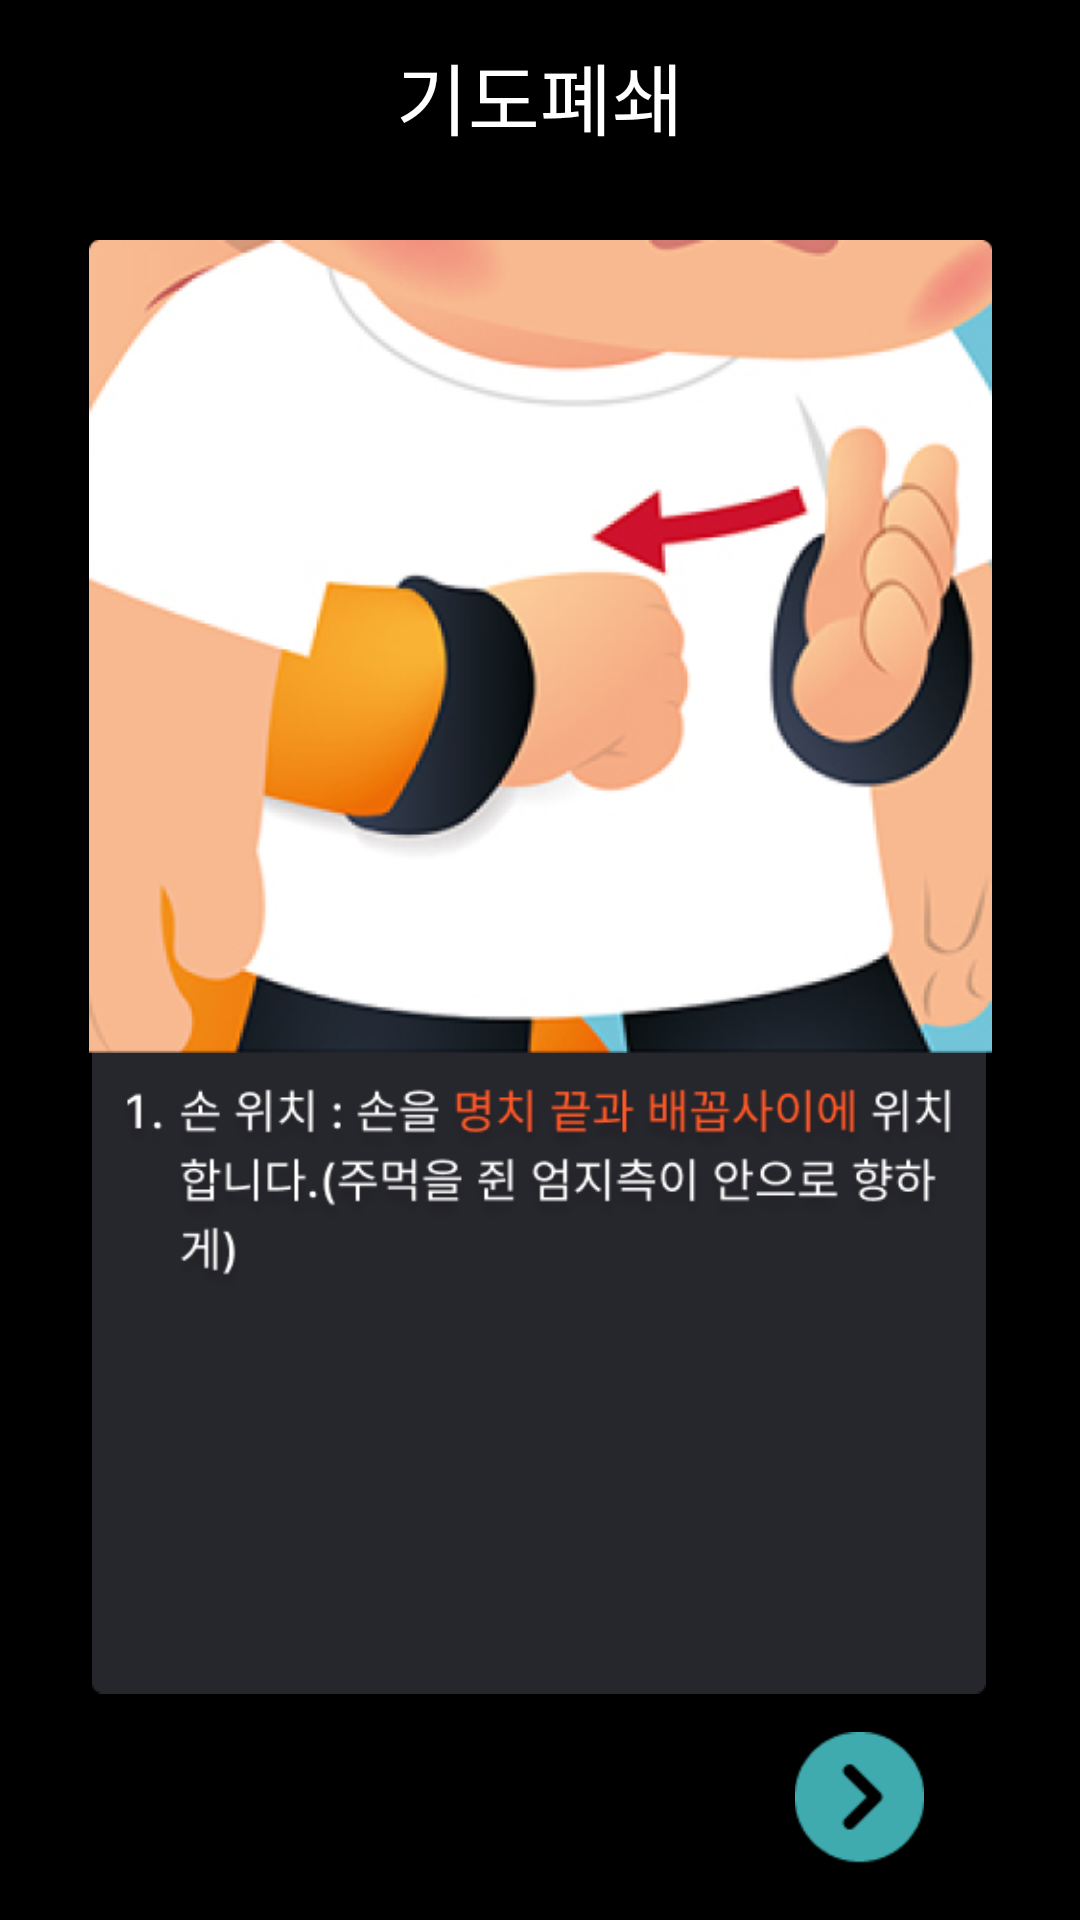

Where icons sit on this 1080px×1920px app screen, as (x1, y1, x2, y2):
edu next page: (795, 1732, 924, 1863)
